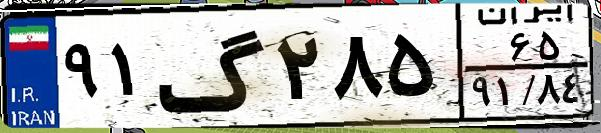1: (110, 28, 156, 98), (495, 70, 520, 125)
2: (270, 28, 330, 110)
4: (560, 70, 590, 125)
5: (385, 28, 445, 110), (537, 27, 568, 80)
6: (508, 27, 537, 80)
8: (330, 28, 385, 110), (535, 70, 560, 125)
9: (57, 26, 110, 100), (470, 70, 495, 125)
گ: (156, 12, 270, 120)
